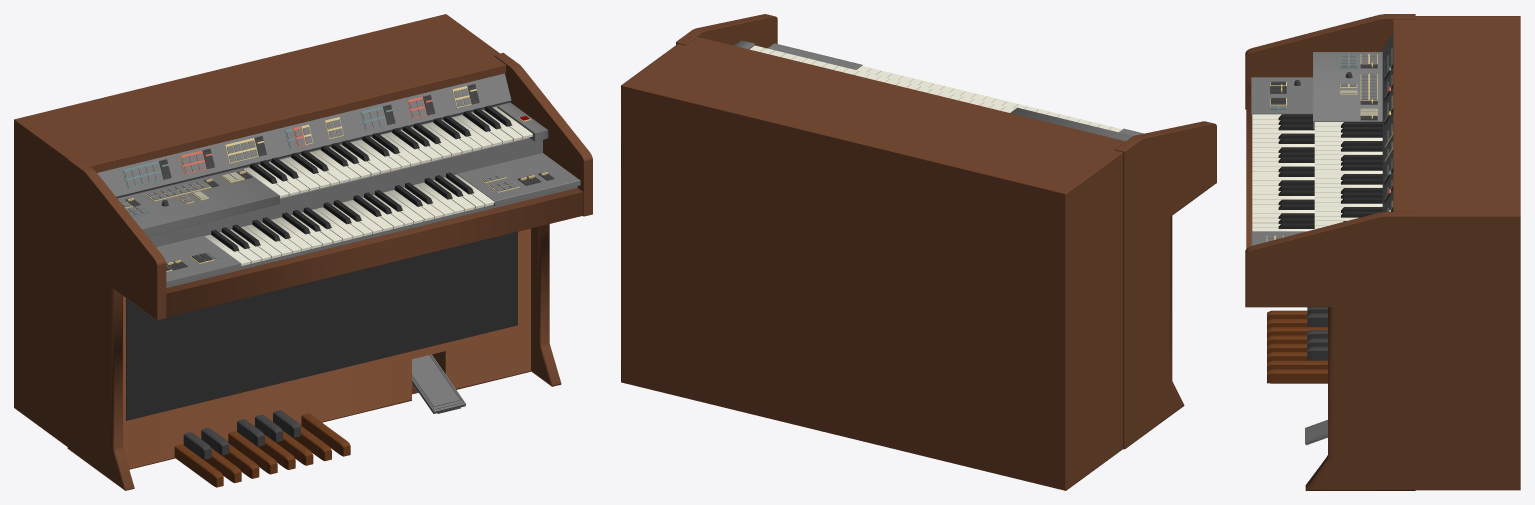
Rendered from organ.gltf.
3 renders of one model, left to right at view 1: azimuth 30°, elevation 25°; view 2: azimuth 150°, elevation 25°; view 3: azimuth 270°, elevation 25°, orthographic. The views are drawn at different scales.
Parts seen in each view (by area): view 1: Cube.030; view 2: Cube.030; view 3: Cube.030.
Part boxes in pixels (x1=…): Cube.030: x1=14, y1=14, x2=592, y2=490; Cube.030: x1=621, y1=14, x2=1216, y2=490; Cube.030: x1=1245, y1=14, x2=1520, y2=490.
Bounding box in the file's own units: 6.8 × 4.32 × 3.91.
